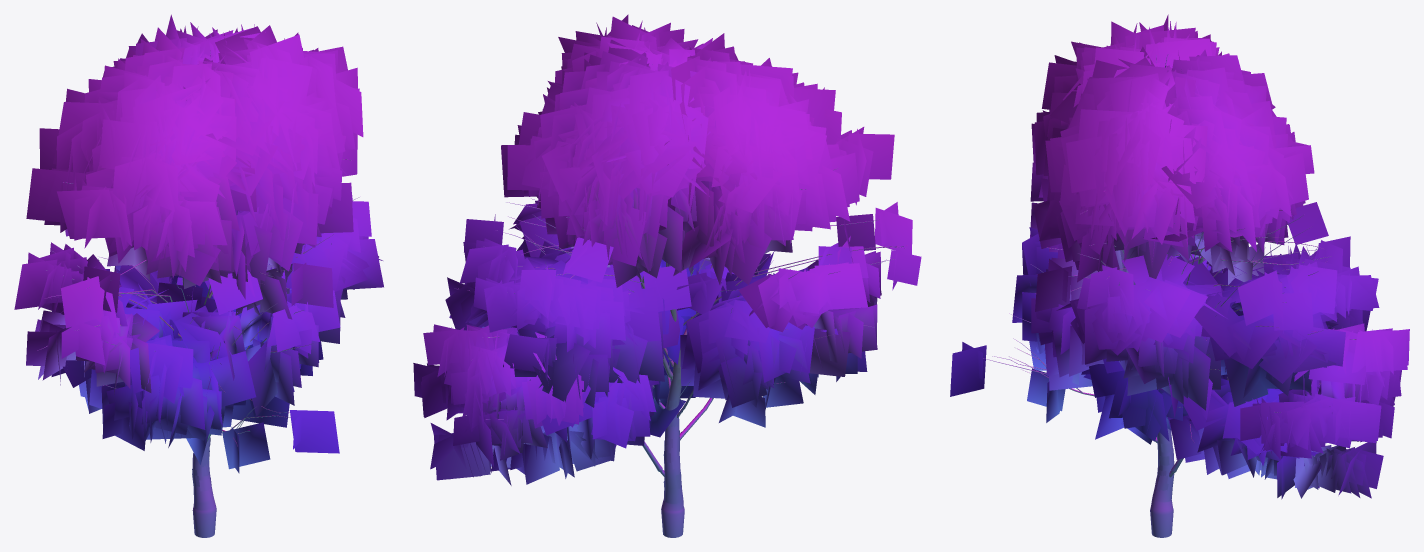
The model's file is tree_silver_birch_s1_a30.fbx.
The picture shows the model from 3 angles, left to right: view 1: azimuth 30°, elevation 25°; view 2: azimuth 150°, elevation 25°; view 3: azimuth 270°, elevation 25°; orthographic projection.
Parts seen in each view (by area): view 1: tree_silver_birch_s1_a30_leaves, tree_silver_birch_s1_a30_branches, tree_silver_birch_s1_a30_marks; view 2: tree_silver_birch_s1_a30_leaves, tree_silver_birch_s1_a30_branches, tree_silver_birch_s1_a30_marks; view 3: tree_silver_birch_s1_a30_leaves, tree_silver_birch_s1_a30_branches, tree_silver_birch_s1_a30_marks.
Part boxes in pixels (x1=…): tree_silver_birch_s1_a30_leaves: x1=14, y1=14, x2=383, y2=473; tree_silver_birch_s1_a30_branches: x1=37, y1=50, x2=359, y2=537; tree_silver_birch_s1_a30_marks: x1=182, y1=280, x2=212, y2=491; tree_silver_birch_s1_a30_leaves: x1=413, y1=14, x2=921, y2=485; tree_silver_birch_s1_a30_branches: x1=454, y1=64, x2=907, y2=537; tree_silver_birch_s1_a30_marks: x1=648, y1=309, x2=707, y2=489; tree_silver_birch_s1_a30_leaves: x1=950, y1=14, x2=1409, y2=499; tree_silver_birch_s1_a30_branches: x1=983, y1=54, x2=1356, y2=537; tree_silver_birch_s1_a30_marks: x1=1154, y1=377, x2=1227, y2=491.
Size of the model in its own units: 9.54 by 12.31 by 10.59.
